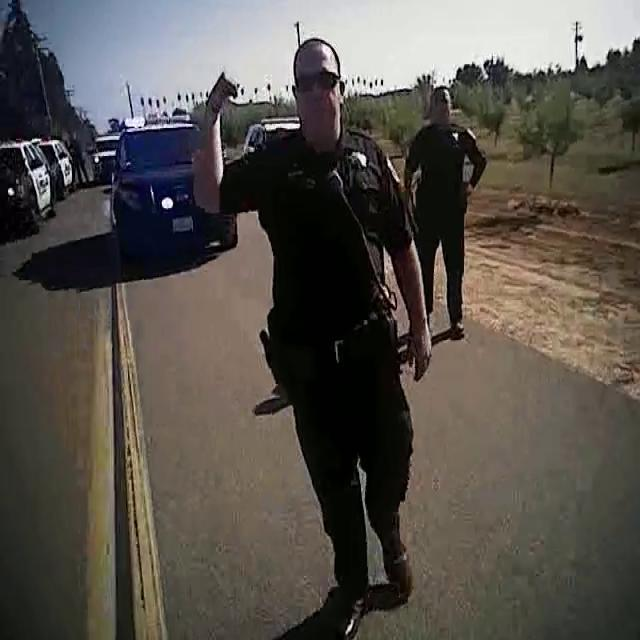gun: (246, 318, 298, 402)
